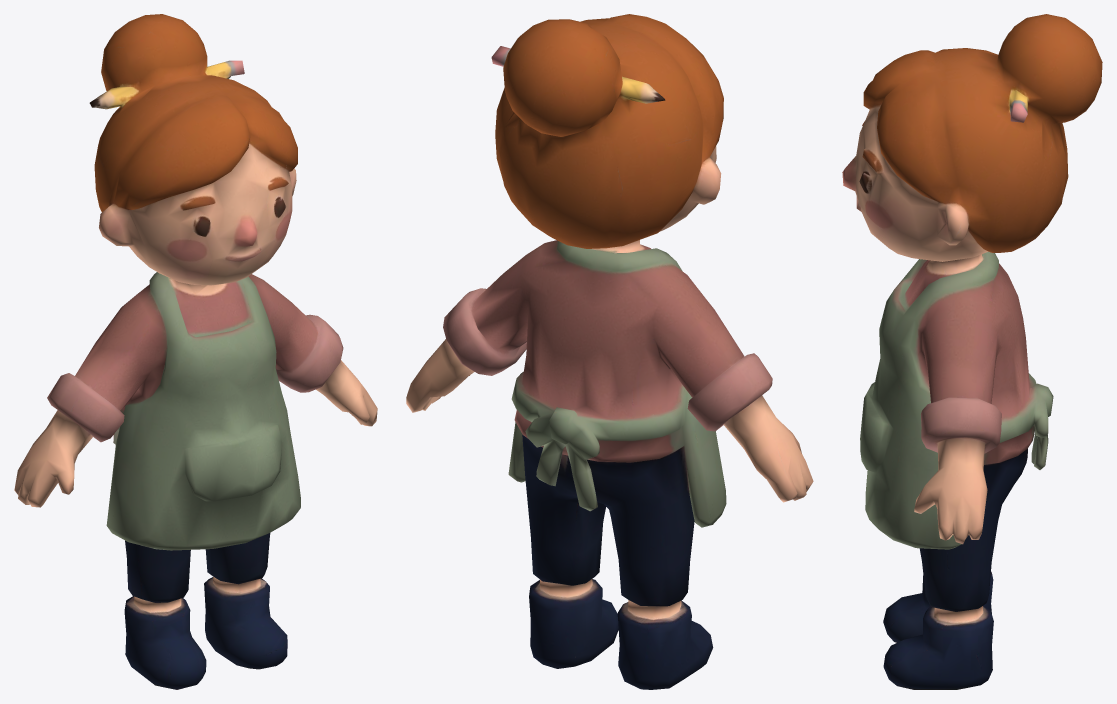
The model's file is rosa.glb.
3 renders of one model, left to right at view 1: azimuth 30°, elevation 25°; view 2: azimuth 150°, elevation 25°; view 3: azimuth 270°, elevation 25°, orthographic. The views are drawn at different scales.
Bounding box in the file's own units: 1.16 × 1.9 × 0.7011.
1 material, 1 textured.
